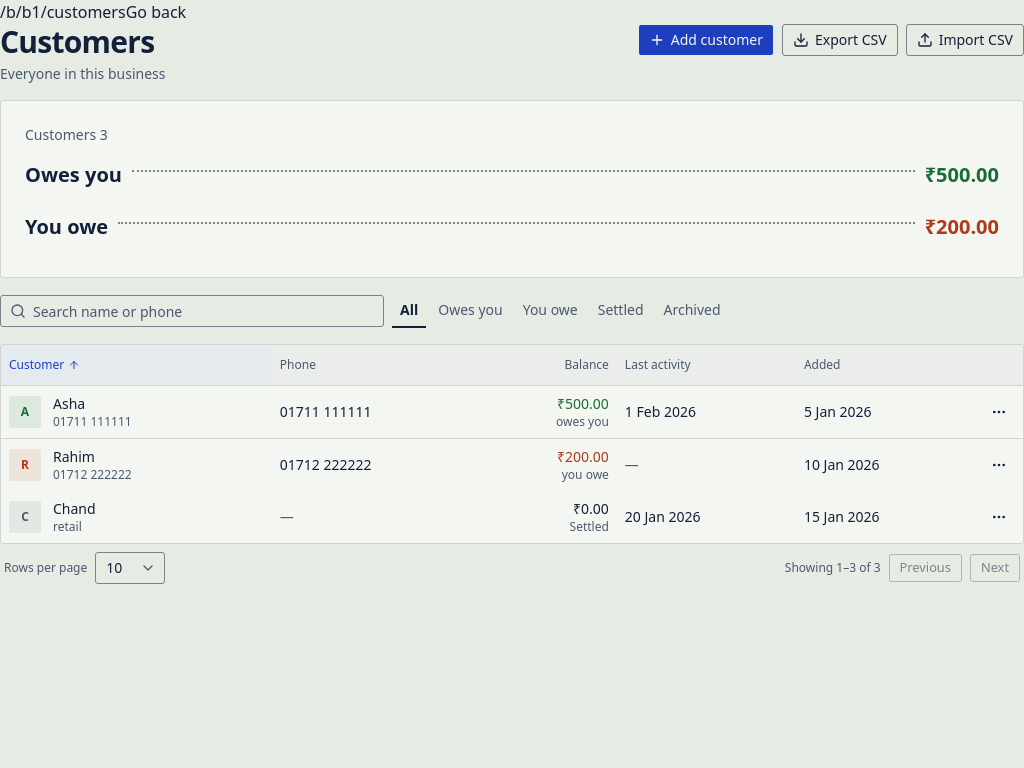
S-28 customers list › offers View, Edit, Add transaction, Archive and Delete to an Owner
Click the button named "Actions for Asha" at (999, 412), box 983,396 -> 1015,428
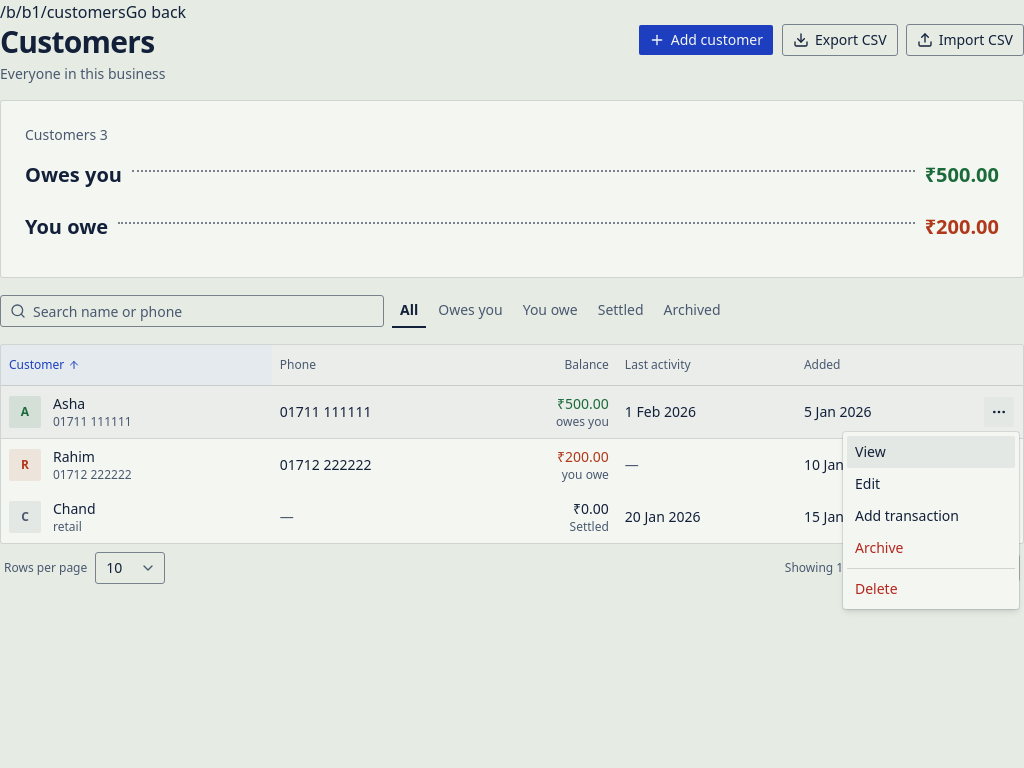
Check: the menu items read "View", "Edit", "Add transaction", "Archive", "Delete", in this order
Check: the menu item "Add transaction" is enabled, box 847,500 -> 1015,532
Check: the menu item "Archive" is enabled, box 847,532 -> 1015,564
Edit opens the form dialog with this row's customer loaded.
Click the menu item "Edit" at (931, 484), box 847,468 -> 1015,500
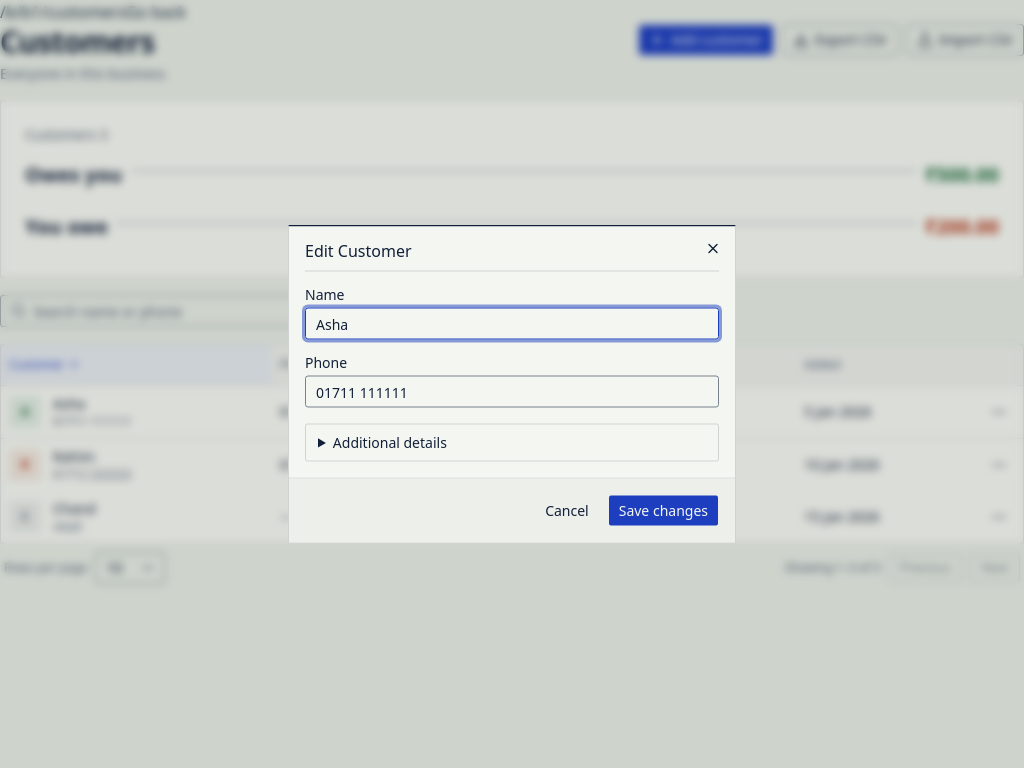
Check: the heading "Edit Customer" is shown, box 305,240 -> 412,262
Check: the field labelled "Name" holds "Asha", box 305,308 -> 719,340
